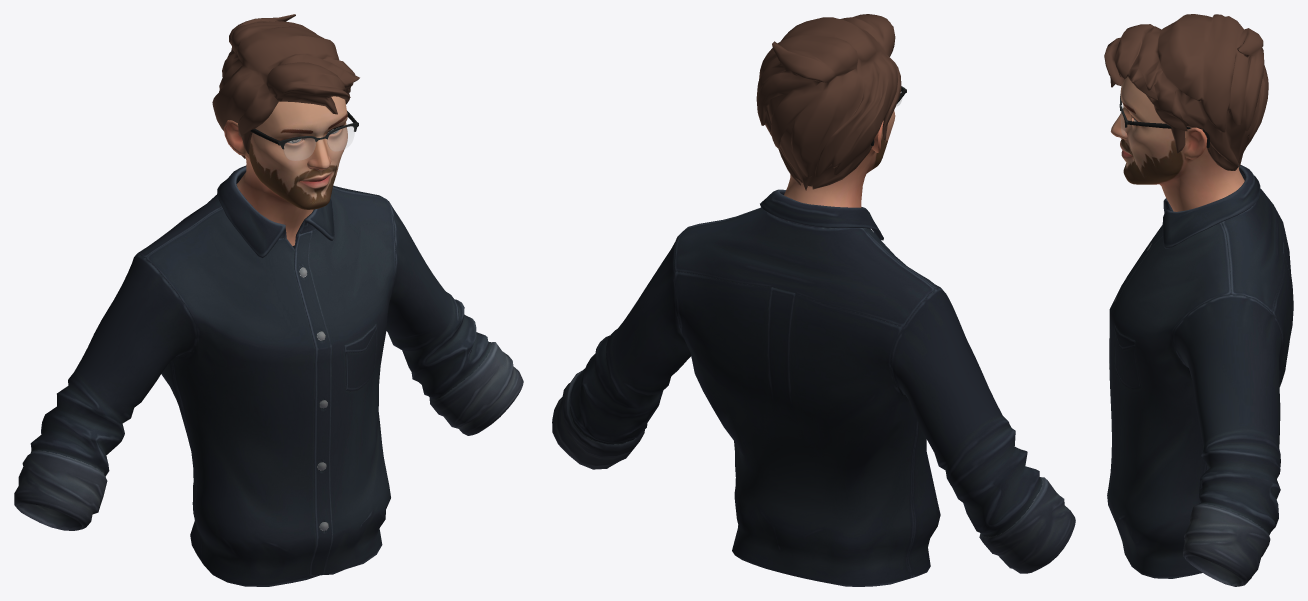
File: portrait.glb
The picture shows the model from 3 angles, left to right: view 1: azimuth 30°, elevation 25°; view 2: azimuth 150°, elevation 25°; view 3: azimuth 270°, elevation 25°; orthographic projection. The views are drawn at different scales.
Visible parts, largest first — view 1: Shirt, Hair, Head, Glasses; view 2: Shirt, Hair, Head; view 3: Shirt, Hair, Head, Glasses.
Part boxes in pixels (x1,y1,x2,y2): Shirt: [14, 165, 523, 586]; Hair: [212, 14, 359, 158]; Head: [223, 96, 347, 245]; Glasses: [250, 111, 358, 160]; Shirt: [552, 189, 1075, 586]; Hair: [756, 14, 901, 190]; Head: [784, 110, 895, 207]; Shirt: [1107, 165, 1293, 586]; Hair: [1104, 14, 1268, 170]; Head: [1110, 77, 1244, 211]; Glasses: [1119, 94, 1209, 147].
Size of the model in its own units: 0.8283 by 0.831 by 0.2753.
Materials: 5 (5 with a texture image).
